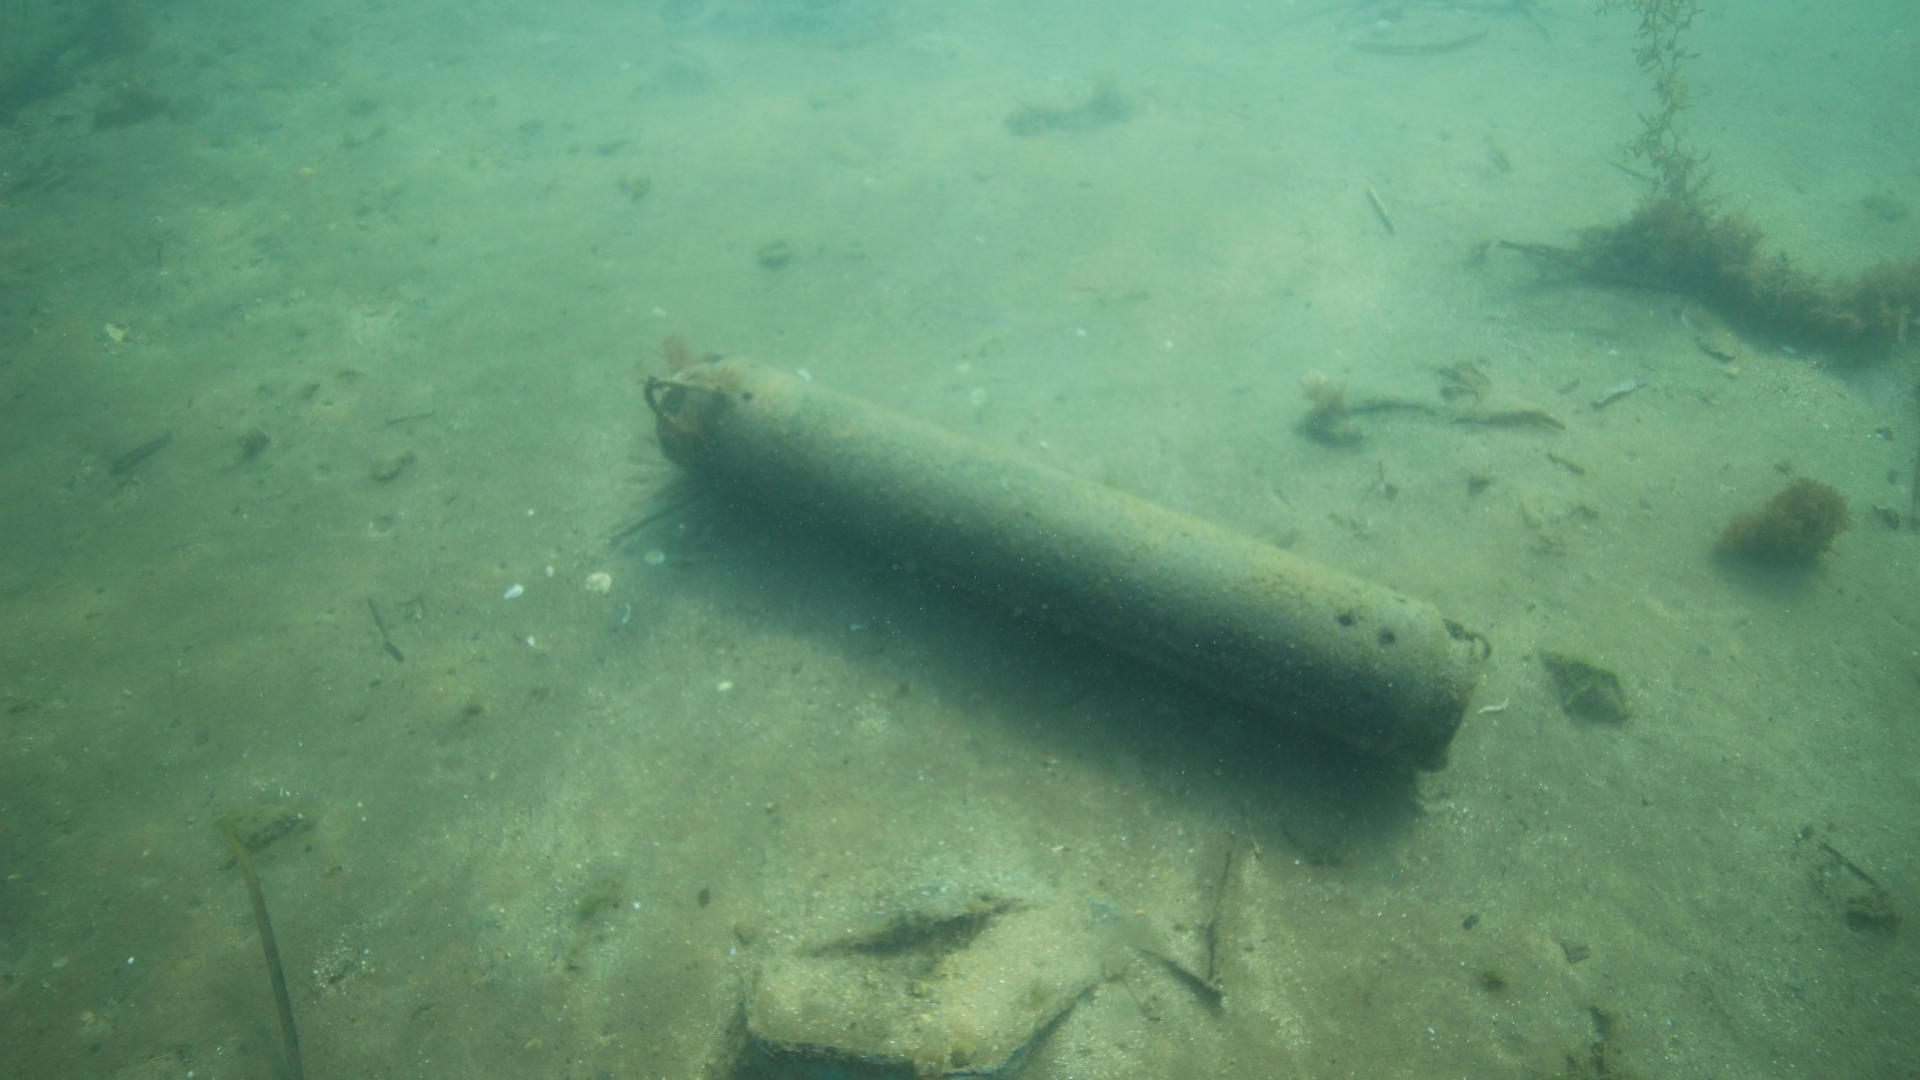eel fish trap: (653, 360, 1495, 767)
